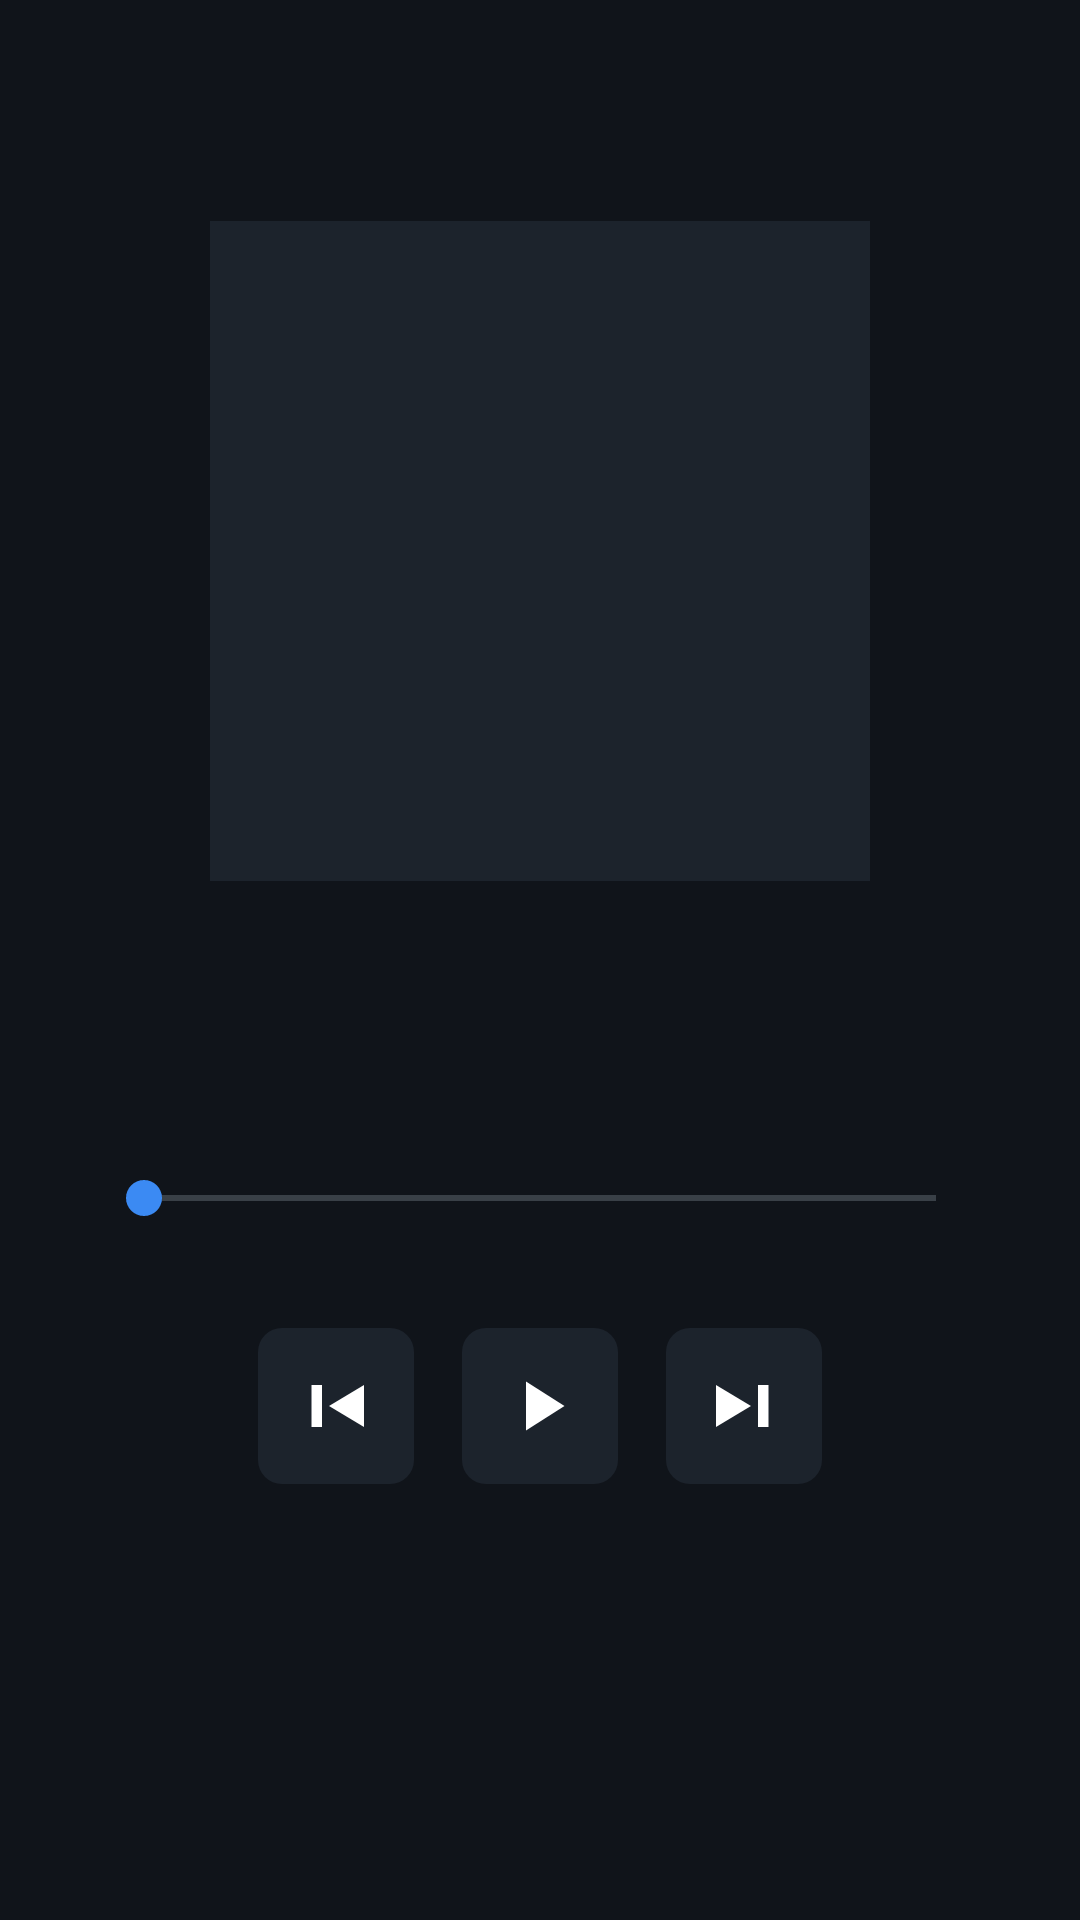

Where to tap for icons on this 1080×1920 app screen, as [x,y]:
next: [742,1406]
play: [545,1406]
prev: [337,1406]
